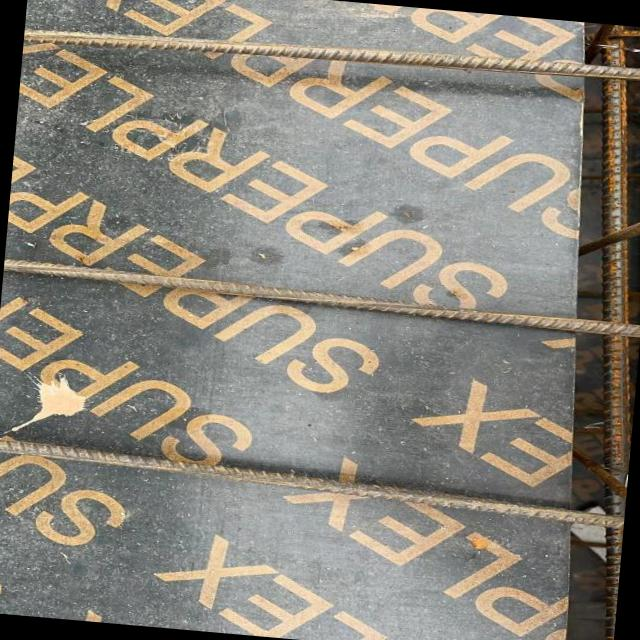ribbed bar: (544, 23, 640, 640), (0, 436, 625, 529), (23, 13, 640, 99), (2, 257, 640, 338)
